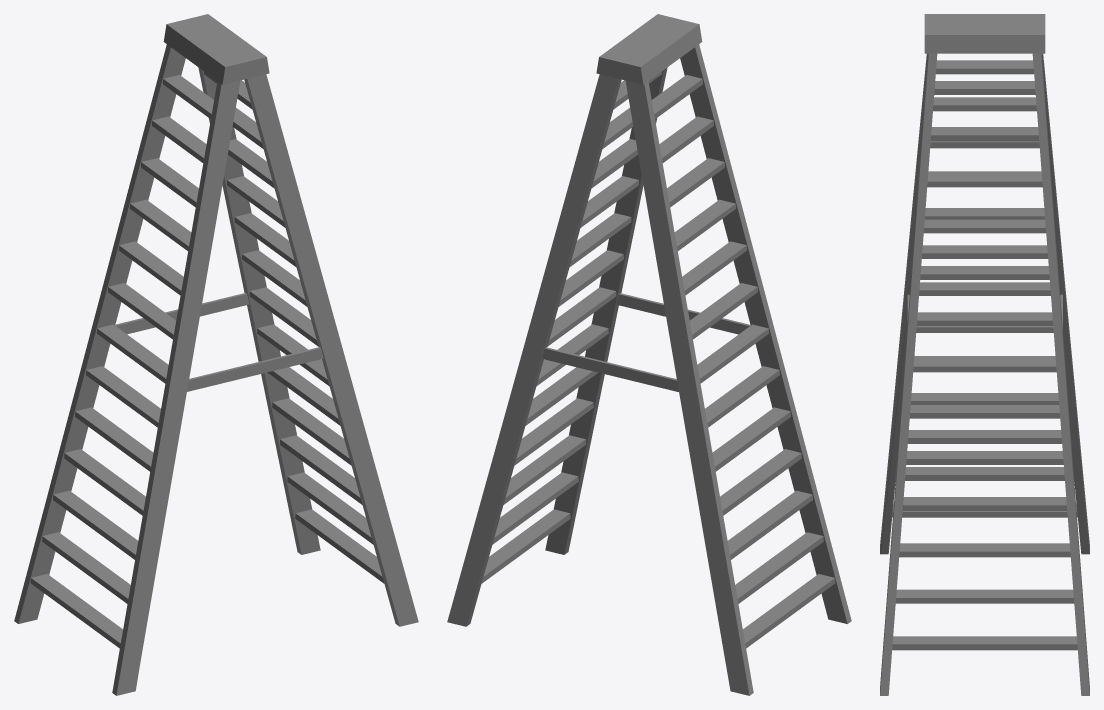
File: Aluminium Dual Ladder.fbx
3 views of the same model, side by side, from view 1: azimuth 30°, elevation 25°; view 2: azimuth 150°, elevation 25°; view 3: azimuth 270°, elevation 25° (orthographic). The views are drawn at different scales.
Parts seen in each view (by area): view 1: Aluminium Dual Ladder; view 2: Aluminium Dual Ladder; view 3: Aluminium Dual Ladder.
Part boxes in pixels (<box>): Aluminium Dual Ladder: <box>14,14,418,695</box>; Aluminium Dual Ladder: <box>447,14,851,695</box>; Aluminium Dual Ladder: <box>880,14,1089,695</box>.
Size of the model in its own units: 245 by 450 by 143.
